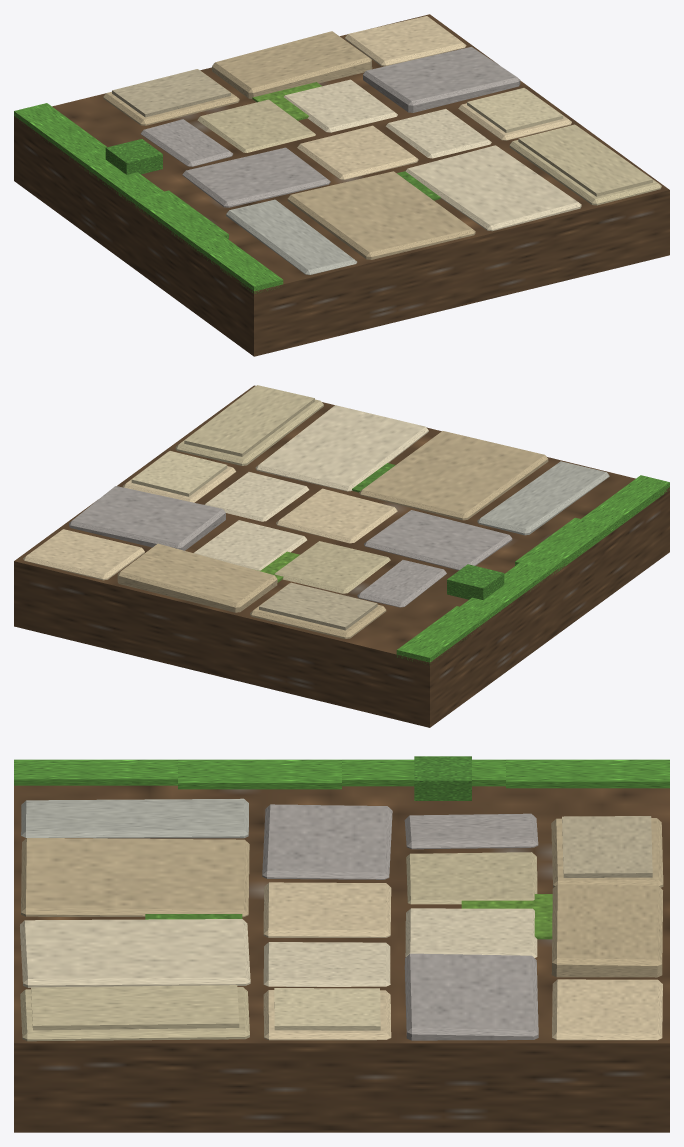
The model's file is Chemin_T_A.obj.
The picture shows the model from 3 angles, top to bottom: view 1: azimuth 30°, elevation 25°; view 2: azimuth 150°, elevation 25°; view 3: azimuth 270°, elevation 25°; orthographic projection. The views are drawn at different scales.
Visible parts, largest first — view 1: Chemin_T_A; view 2: Chemin_T_A; view 3: Chemin_T_A.
Part boxes in pixels (x1,y1,x2,y2): Chemin_T_A: (14, 14, 669, 356); Chemin_T_A: (14, 385, 669, 727); Chemin_T_A: (14, 756, 669, 1132).
Size of the model in its own units: 8 by 1.5 by 8.
Materials: 1 (1 with a texture image).
